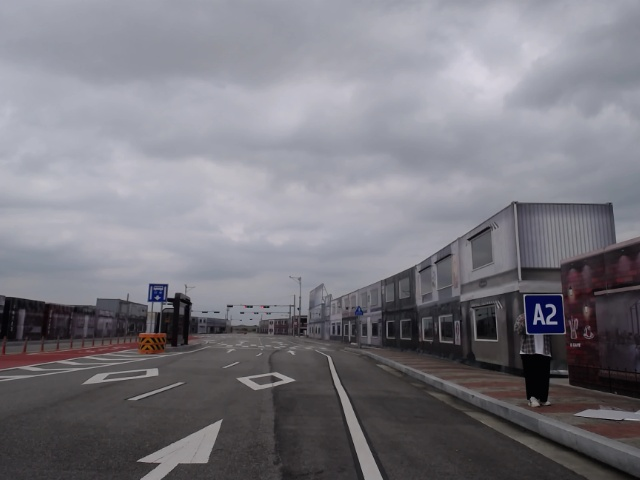delivery_a2: (524, 294, 565, 335)
